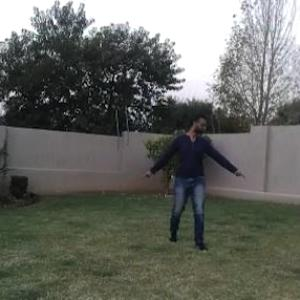land: (140, 100, 248, 248)
